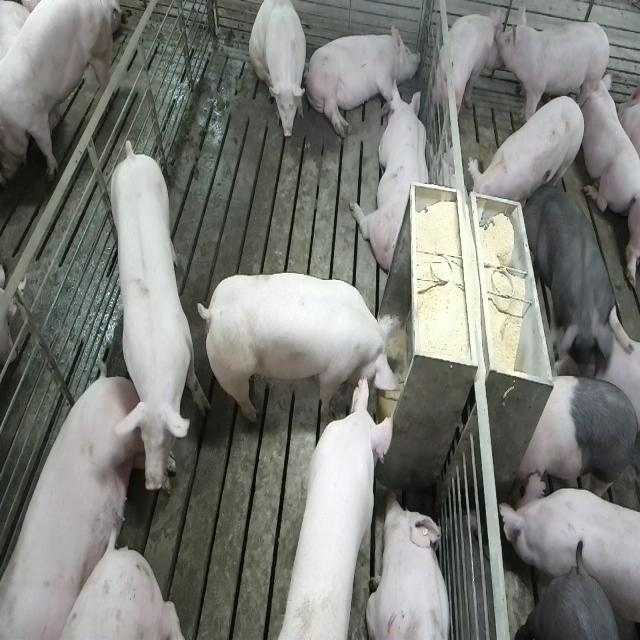Feeding: (198, 269, 407, 429), (277, 367, 393, 632)
Lateral_lying: (304, 20, 420, 142)
Sitting: (249, 2, 308, 146)
Standing: (104, 135, 203, 475), (499, 472, 637, 638), (0, 0, 117, 188), (524, 182, 618, 377), (515, 370, 637, 511), (496, 14, 615, 133), (472, 95, 588, 216), (522, 552, 628, 638), (436, 12, 504, 128)
Sternal_lying: (353, 80, 432, 274), (368, 492, 455, 640), (580, 69, 636, 219), (616, 63, 640, 154)
